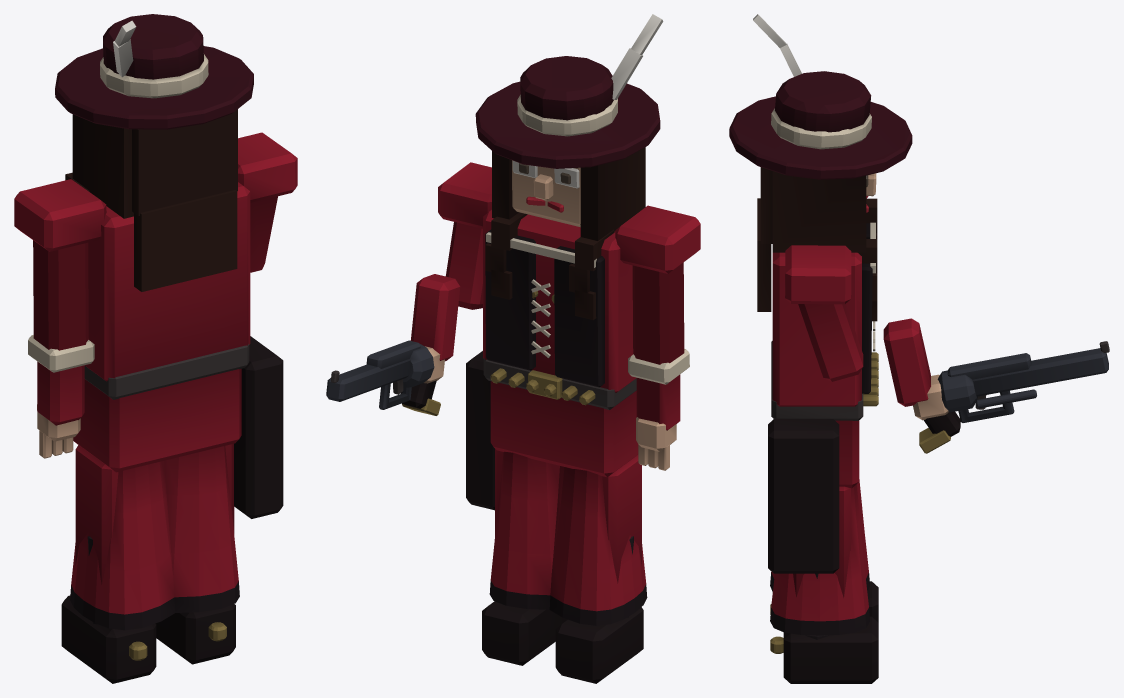
File: cowboy_ruby.glb
3 renders of one model, left to right at view 1: azimuth 30°, elevation 25°; view 2: azimuth 150°, elevation 25°; view 3: azimuth 270°, elevation 25°, orthographic. The views are drawn at different scales.
Visible parts, largest first — view 1: O_Torso, O_Pelvis, O_Hat, O_Hair, O_Skirt_L, O_Skirt_R, O_Sleeve_L, O_Gear, O_Shin_L, O_Leg_L, O_Shin_R, O_Sleeve_R (+2 smaller); view 2: O_Torso, O_Pelvis, O_Hat, O_Skirt_L, O_Skirt_R, O_Sleeve_L, O_Hair, O_Frame, O_Shin_L, O_Gear, O_Shin_R, O_Head (+4 smaller); view 3: O_Hat, O_Pelvis, O_Torso, O_Frame, O_Hair, O_Skirt_R, O_Shin_R, O_Fore_R, O_Sleeve_R, O_Gear, O_Leg_R.
Boxes of the visible parts, left/top/right/bottom form: O_Torso: left=14, top=132, right=297, bottom=381; O_Pelvis: left=73, top=336, right=283, bottom=518; O_Hat: left=55, top=14, right=253, bottom=129; O_Hair: left=72, top=109, right=237, bottom=218; O_Skirt_L: left=70, top=461, right=175, bottom=630; O_Skirt_R: left=164, top=446, right=239, bottom=612; O_Sleeve_L: left=33, top=240, right=88, bottom=458; O_Gear: left=65, top=172, right=237, bottom=291; O_Shin_L: left=61, top=595, right=156, bottom=683; O_Leg_L: left=75, top=445, right=118, bottom=584; O_Shin_R: left=155, top=604, right=235, bottom=664; O_Sleeve_R: left=250, top=196, right=277, bottom=272; O_Torso: left=438, top=162, right=700, bottom=392; O_Pelvis: left=466, top=351, right=638, bottom=510; O_Hat: left=475, top=14, right=663, bottom=168; O_Skirt_L: left=549, top=466, right=647, bottom=625; O_Skirt_R: left=489, top=451, right=559, bottom=609; O_Sleeve_L: left=632, top=262, right=684, bottom=470; O_Hair: left=492, top=147, right=645, bottom=240; O_Frame: left=326, top=340, right=440, bottom=415; O_Shin_L: left=555, top=607, right=643, bottom=683; O_Gear: left=485, top=212, right=614, bottom=320; O_Shin_R: left=482, top=601, right=567, bottom=665; O_Head: left=512, top=160, right=580, bottom=227; O_Hat: left=729, top=14, right=912, bottom=179; O_Pelvis: left=768, top=341, right=878, bottom=573; O_Torso: left=772, top=222, right=875, bottom=406; O_Frame: left=919, top=341, right=1109, bottom=453; O_Hair: left=760, top=167, right=866, bottom=252; O_Skirt_R: left=770, top=484, right=869, bottom=635; O_Shin_R: left=770, top=616, right=878, bottom=683; O_Fore_R: left=883, top=318, right=948, bottom=420; O_Sleeve_R: left=798, top=304, right=863, bottom=381; O_Gear: left=757, top=198, right=877, bottom=321; O_Leg_R: left=793, top=486, right=850, bottom=597.
Bounding box in the file's own units: 0.956 × 2.44 × 1.36.
